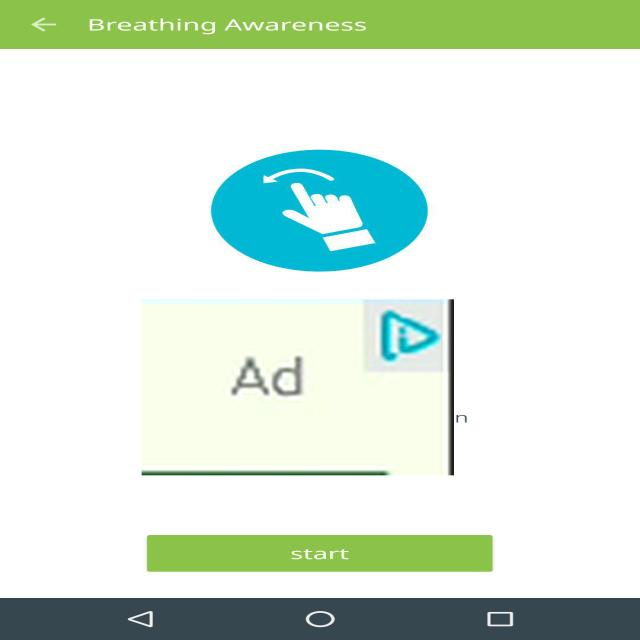sneaking: (142, 300, 454, 476)
